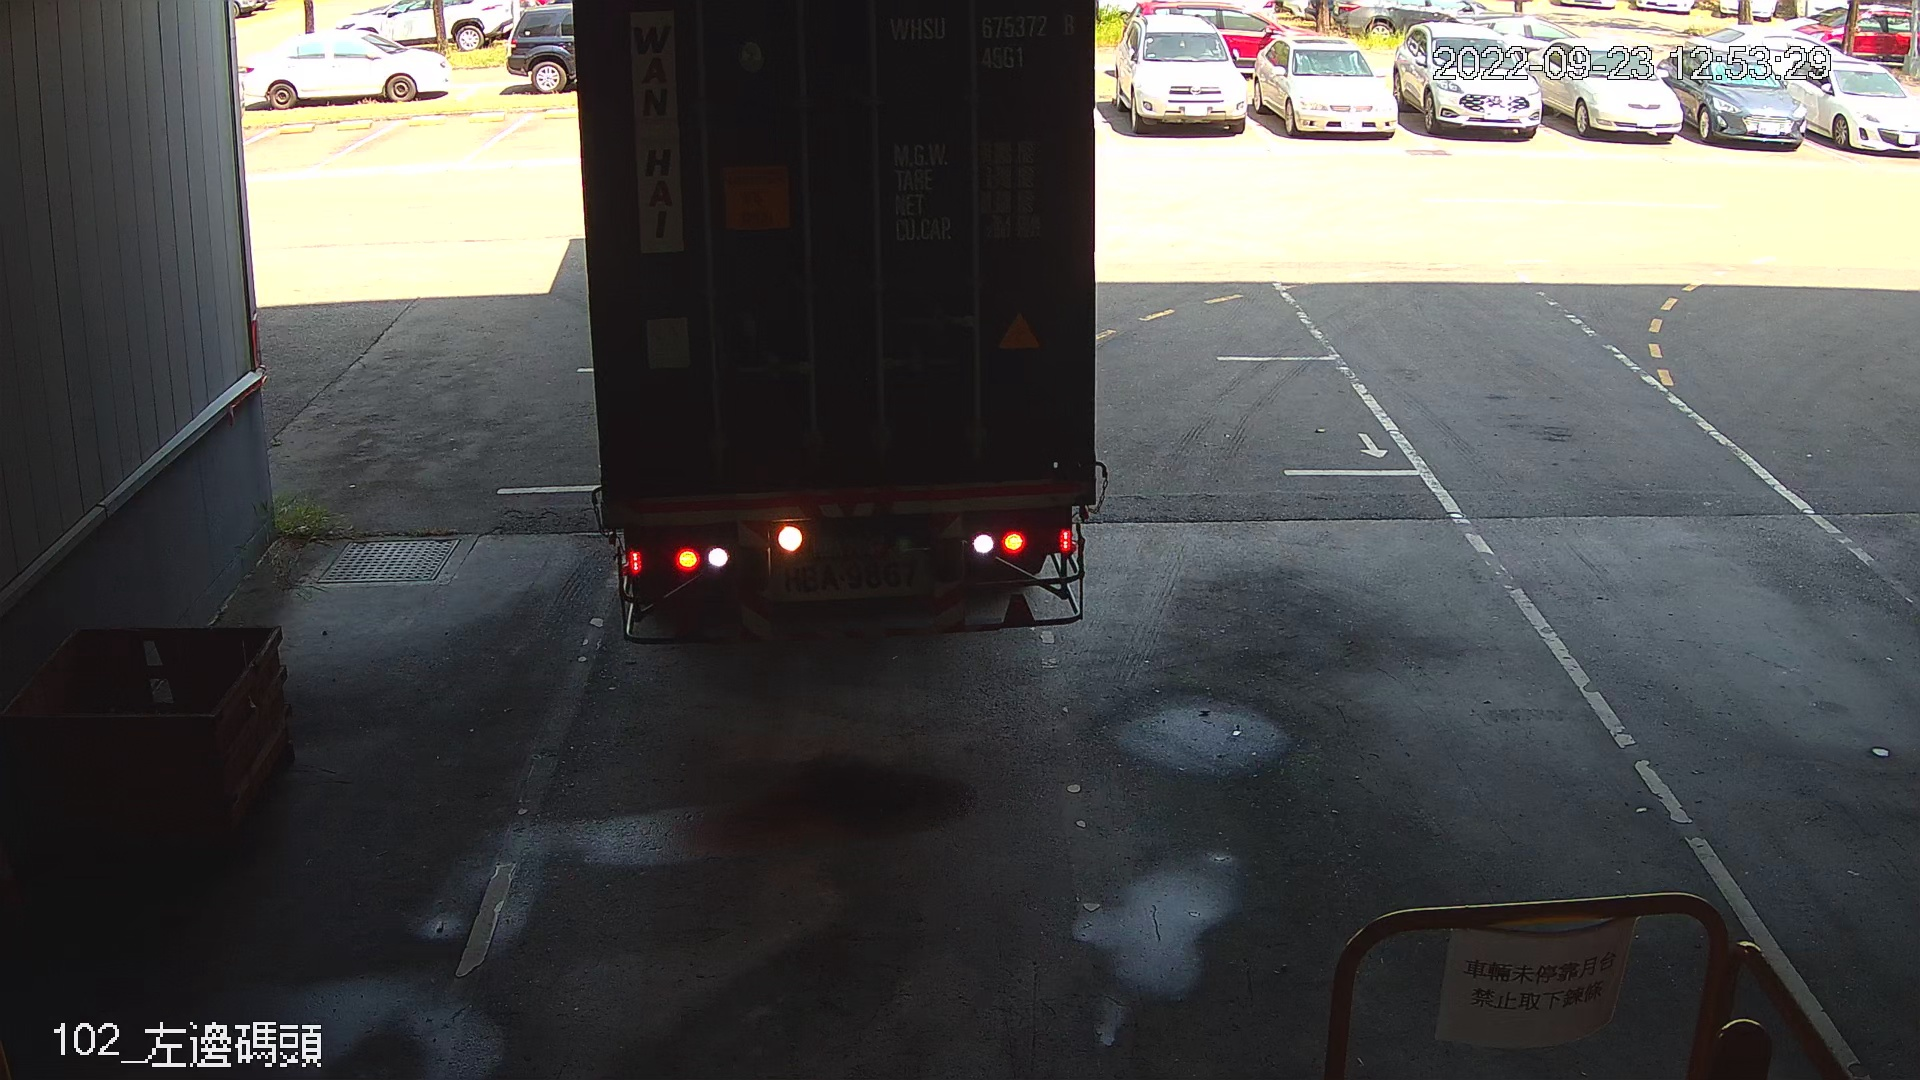container: (880, 7, 1085, 79)
